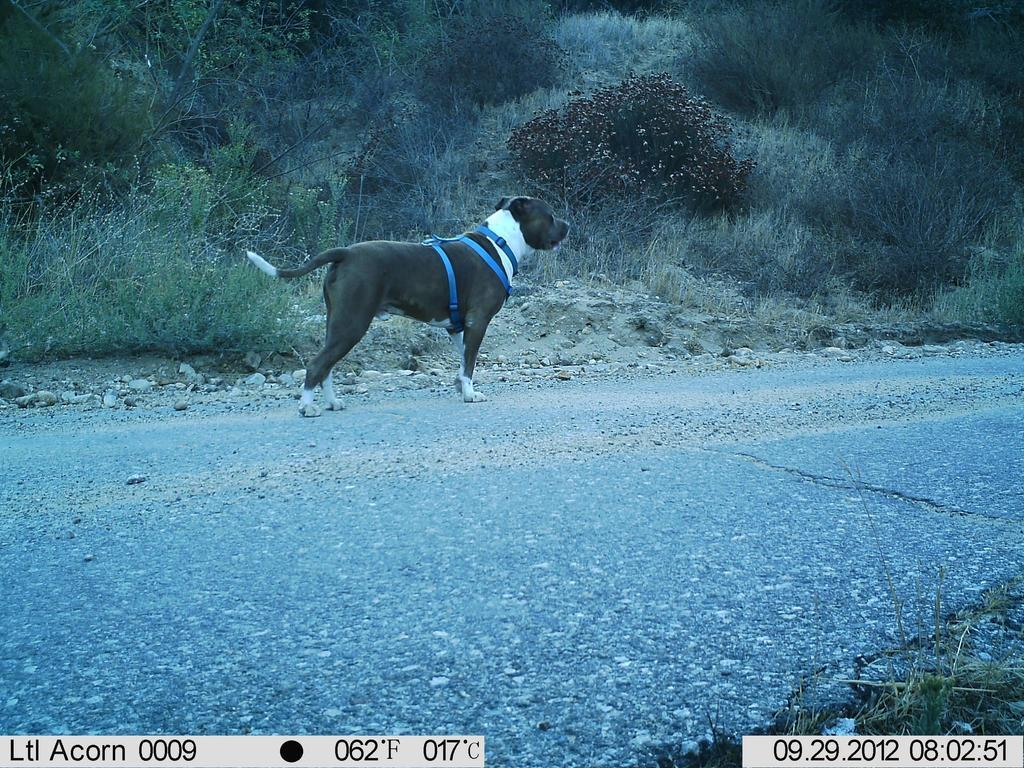dog: (236, 188, 583, 426)
